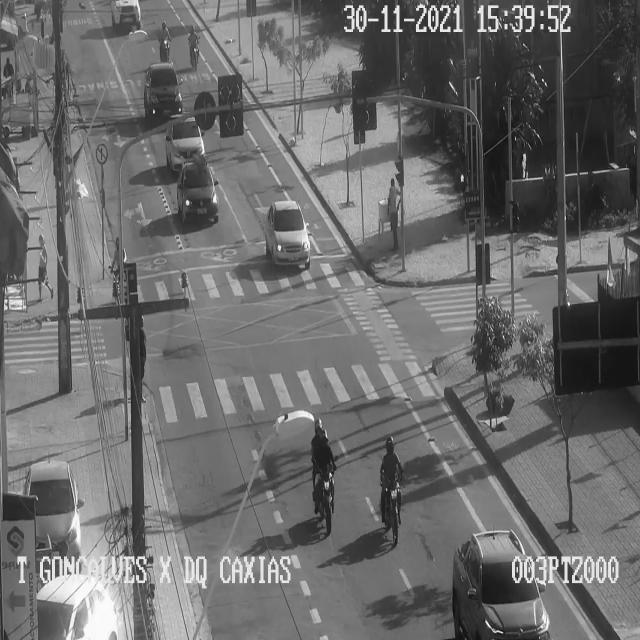Car: (452, 533, 552, 639), (27, 460, 84, 558), (38, 574, 112, 639), (266, 199, 307, 272), (176, 161, 222, 223), (166, 115, 207, 168), (146, 63, 182, 117), (114, 0, 149, 32)
Motorcycle: (158, 18, 171, 62), (188, 27, 200, 72)
